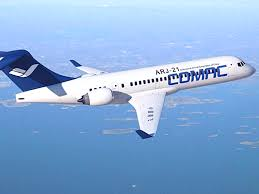maybay_dansu: (1, 38, 255, 137)
